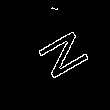N_SW: (23, 25, 87, 85)
